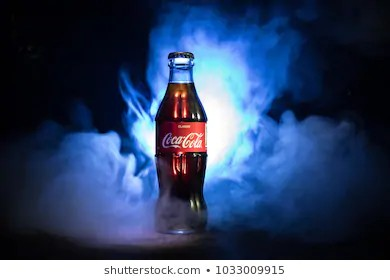coke-glass-bottle: (154, 49, 208, 234)
